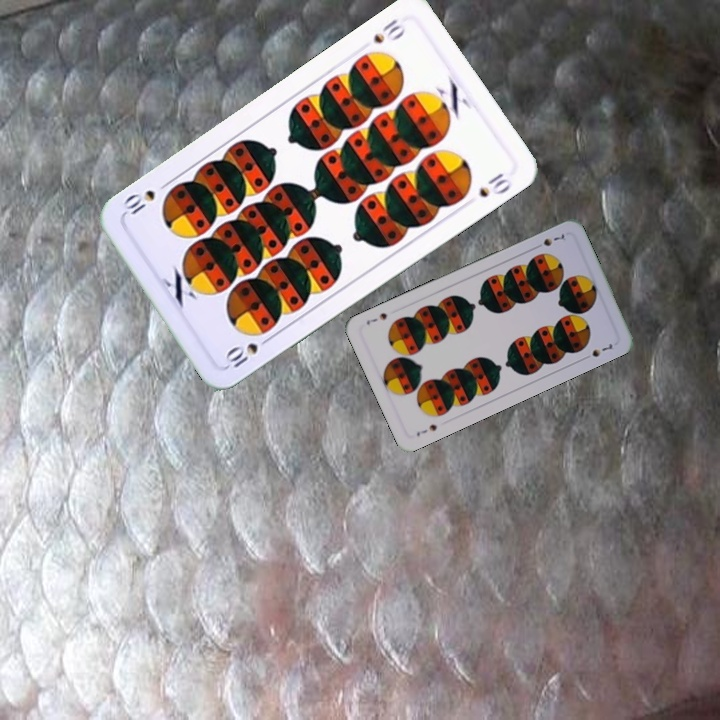S10: (220, 332, 275, 371), (369, 14, 409, 46)
S7: (530, 230, 567, 251), (412, 420, 440, 439)
